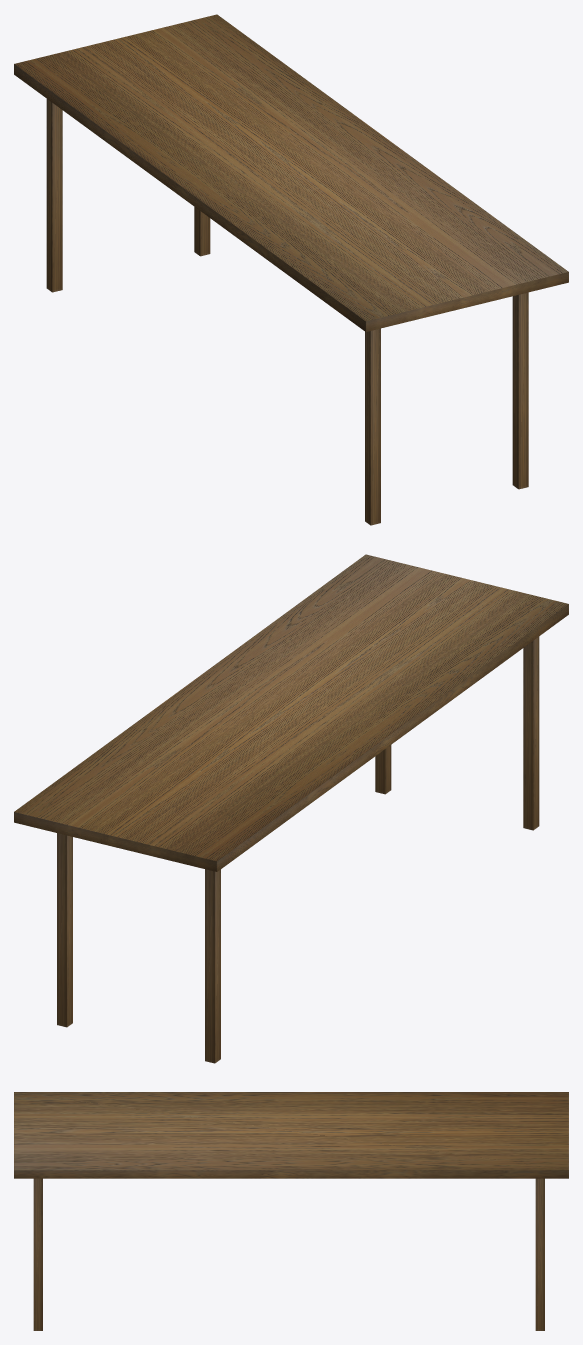
The model's file is Obstacle_051.obj.
3 views of the same model, one above another, from view 1: azimuth 30°, elevation 25°; view 2: azimuth 150°, elevation 25°; view 3: azimuth 270°, elevation 25° (orthographic). The views are drawn at different scales.
Visible parts, largest first — view 1: Box200; view 2: Box200; view 3: Box200.
Boxes of the visible parts, <box> form: Box200: <box>14,14,568,525</box>; Box200: <box>14,554,568,1063</box>; Box200: <box>14,1092,568,1330</box>.
Size of the model in its own units: 39.37 by 40.27 by 118.
